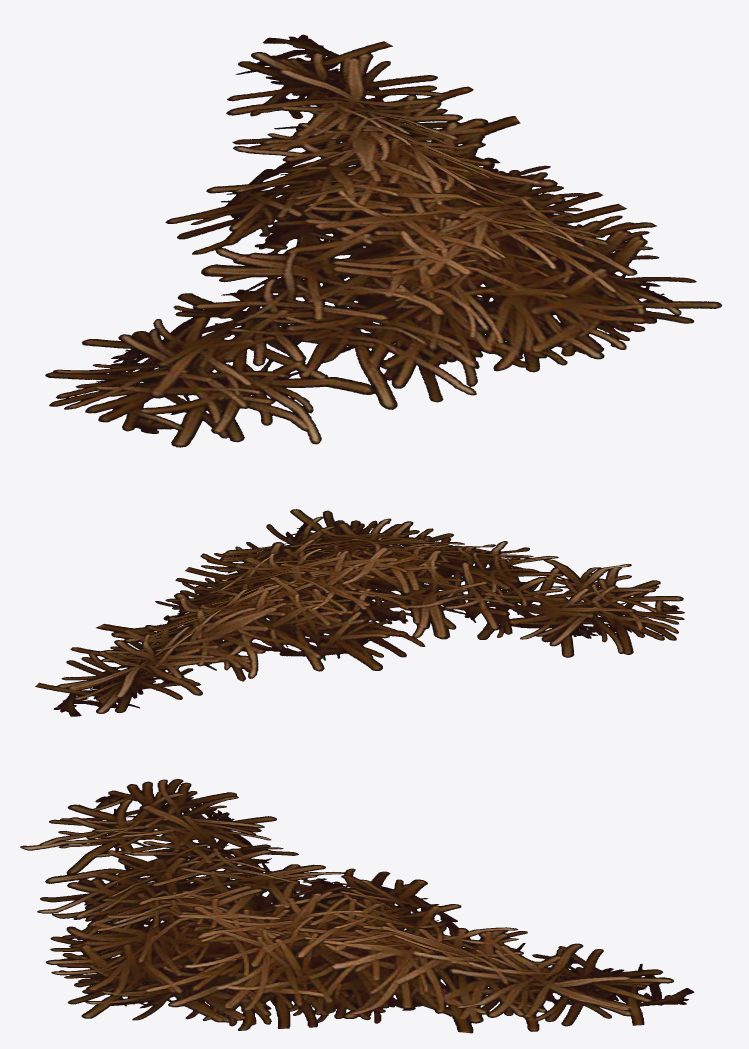
3 renders of one model, top to bottom at view 1: azimuth 30°, elevation 25°; view 2: azimuth 150°, elevation 25°; view 3: azimuth 270°, elevation 25°, orthographic. The views are drawn at different scales.
Parts seen in each view (by area): view 1: SM_Hay_Pile_05_LOD0; view 2: SM_Hay_Pile_05_LOD0; view 3: SM_Hay_Pile_05_LOD0.
Part boxes in pixels (x1,y1,x2,y2): SM_Hay_Pile_05_LOD0: [45, 34, 722, 447]; SM_Hay_Pile_05_LOD0: [35, 509, 684, 716]; SM_Hay_Pile_05_LOD0: [20, 779, 694, 1033].
Bounding box in the file's own units: 1.7 × 0.084 × 1.9.
1 material, 1 textured.
